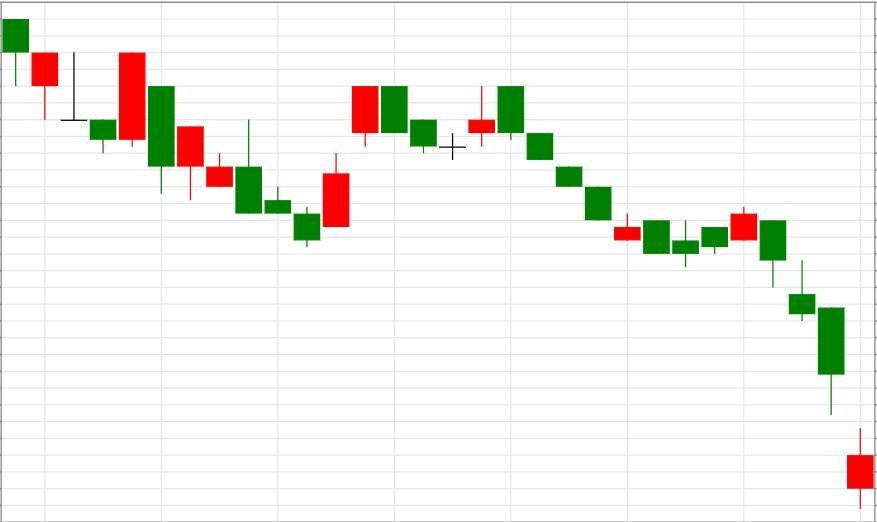three_black_crows_fall: (438, 84, 583, 188)
